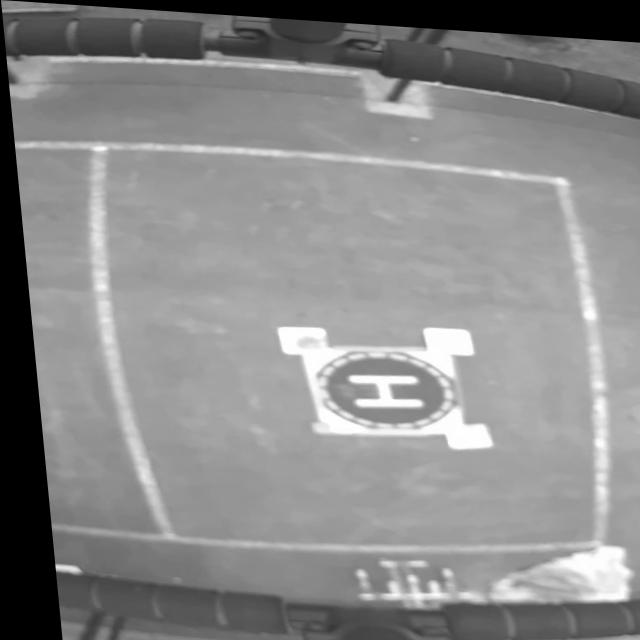Helipad: (337, 370, 417, 403)
